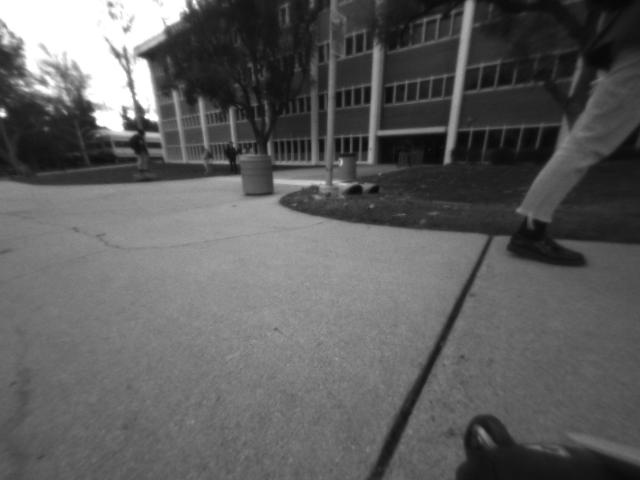trashcan: (237, 152, 275, 200)
